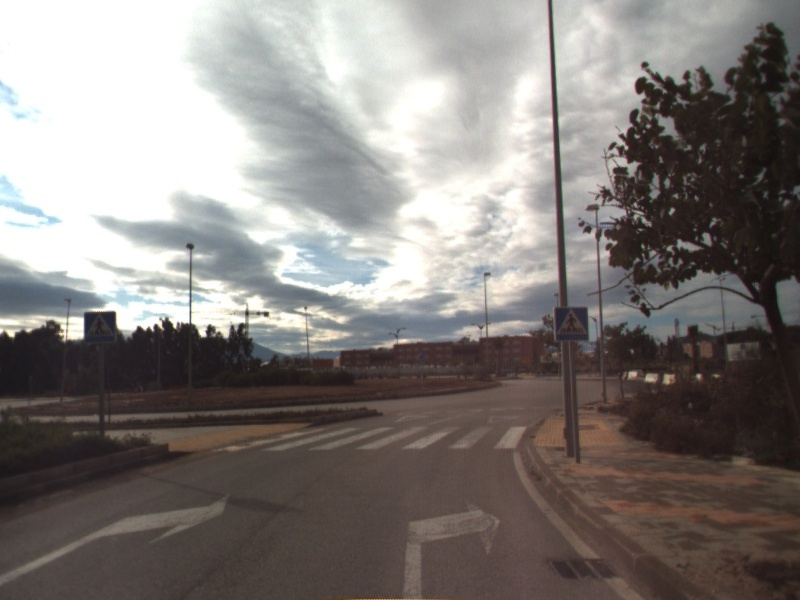RIGHT: (1, 488, 233, 586), (398, 496, 504, 600)
